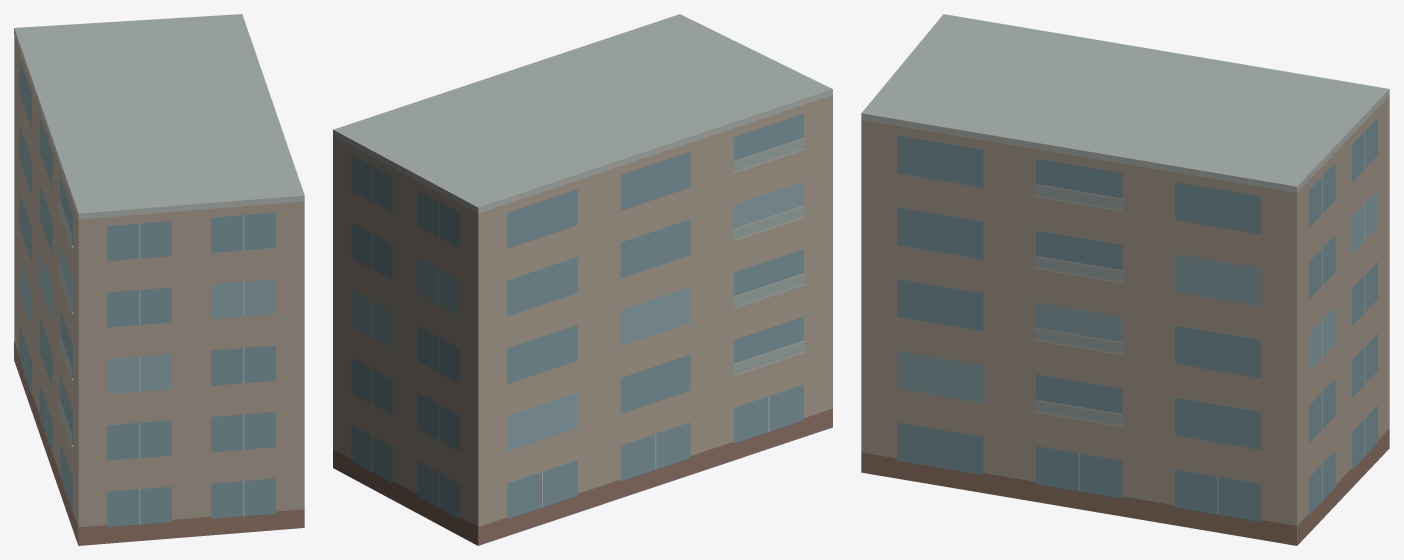
The model's file is survey-upis-32636555.glb.
3 renders of one model, left to right at view 1: azimuth 30°, elevation 25°; view 2: azimuth 150°, elevation 25°; view 3: azimuth 270°, elevation 25°, orthographic. The views are drawn at different scales.
Visible parts, largest first — view 1: survey-upis-32636555.tmp; view 2: survey-upis-32636555.tmp; view 3: survey-upis-32636555.tmp.
Part boxes in pixels (x1,y1,x2,y2): survey-upis-32636555.tmp: (14,14,304,545); survey-upis-32636555.tmp: (333,14,832,545); survey-upis-32636555.tmp: (861,14,1389,545).
Size of the model in its own units: 14.24 by 13.8 by 18.41.
